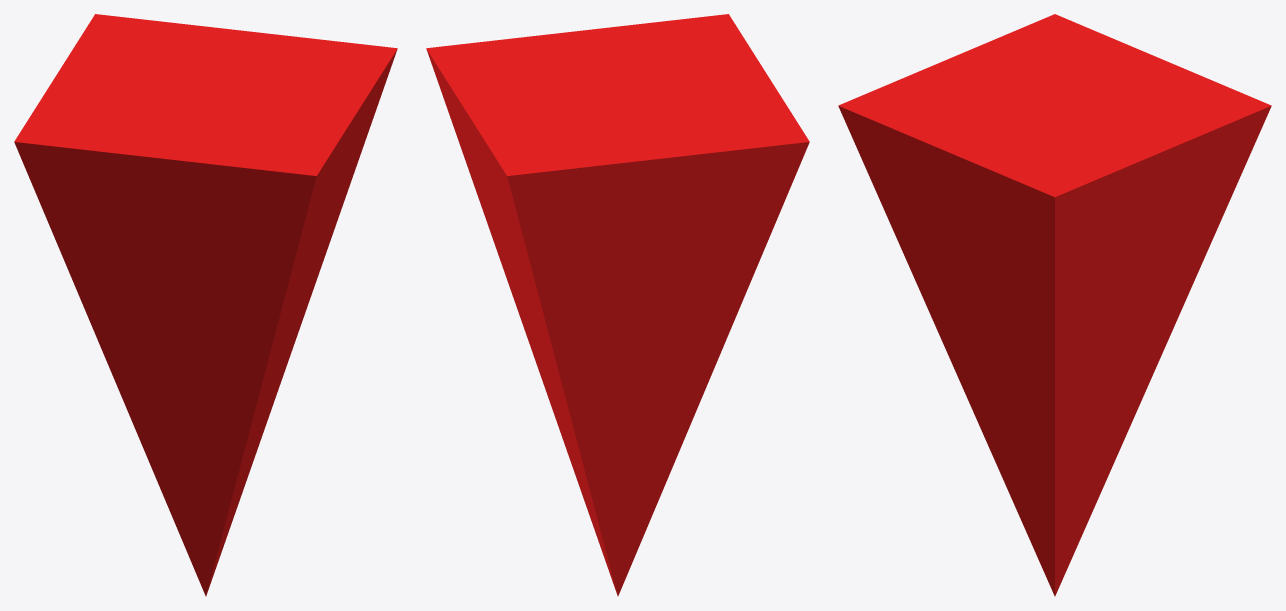
The model's file is Tag.FBX.
3 views of the same model, side by side, from view 1: azimuth 30°, elevation 25°; view 2: azimuth 150°, elevation 25°; view 3: azimuth 270°, elevation 25° (orthographic). The views are drawn at different scales.
Visible parts, largest first — view 1: Tag; view 2: Tag; view 3: Tag.
Part boxes in pixels (bbox=[...]): Tag: bbox=[14, 14, 397, 596]; Tag: bbox=[426, 14, 809, 596]; Tag: bbox=[838, 14, 1271, 596].
Bounding box in the file's own units: 40 × 50 × 40.
